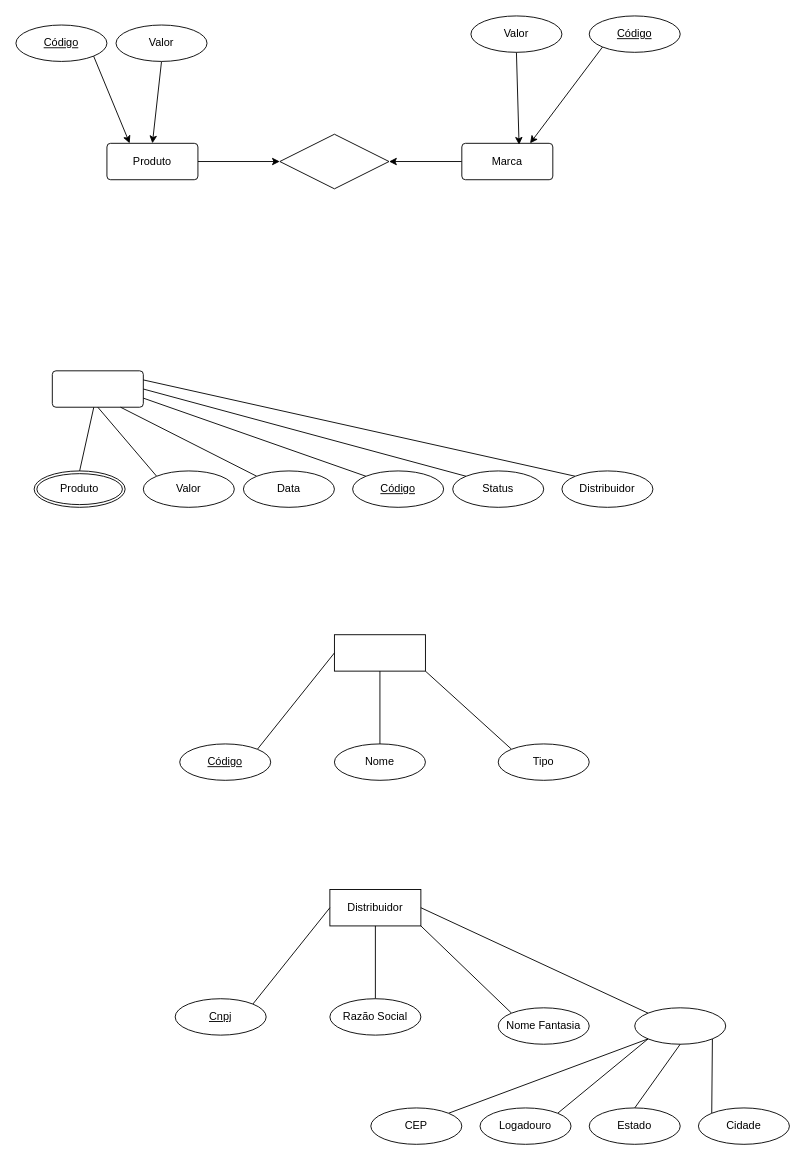
Image size: 805x1160. Some labels were removed from this diagram. Here are the shapes that lost their labels. From the top down, the centre of each, then its label:
At point 334,161: "Possui".
At point 97,388: "Compras".
At point 379,652: "Forma de Pagamento".
At point 680,1025: "Endereço".
